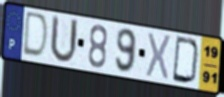8: (88, 23, 109, 70)
9: (115, 28, 138, 75)
D: (171, 34, 202, 86), (21, 10, 51, 61)
U: (49, 13, 80, 66)
X: (144, 31, 173, 83)
